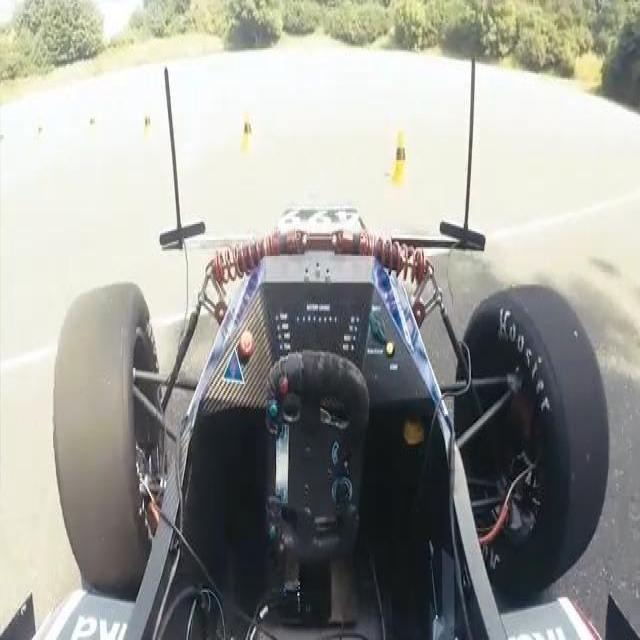yellow_cone: (390, 130, 411, 186), (241, 110, 257, 153)
